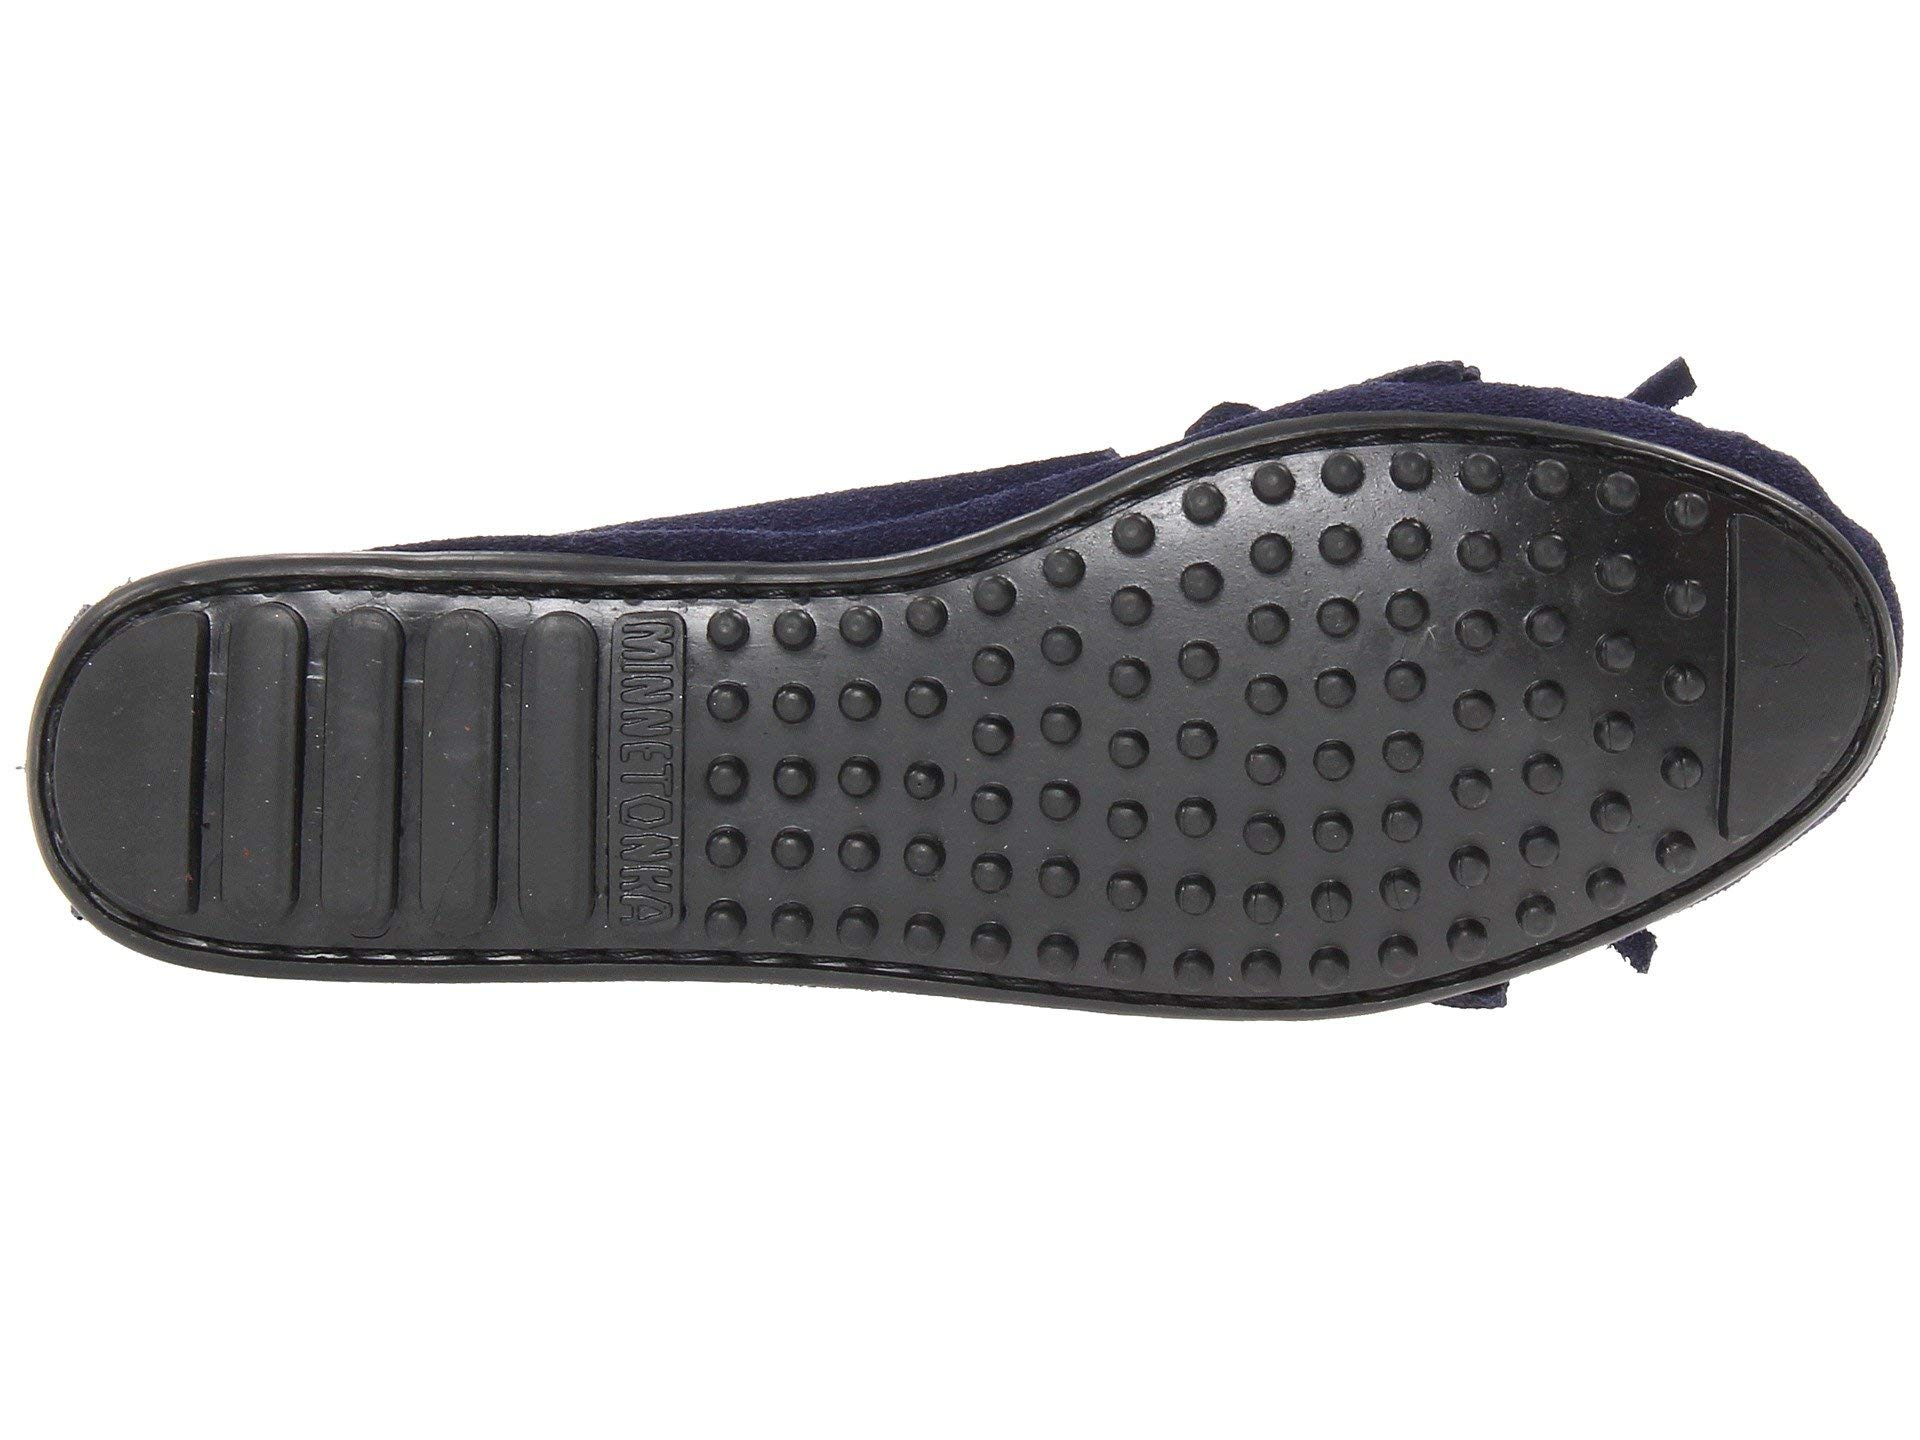circle: (963, 585, 1364, 932), (482, 599, 786, 961), (1395, 517, 1708, 833)
quad: (482, 599, 786, 961)
text: (482, 599, 786, 961)
